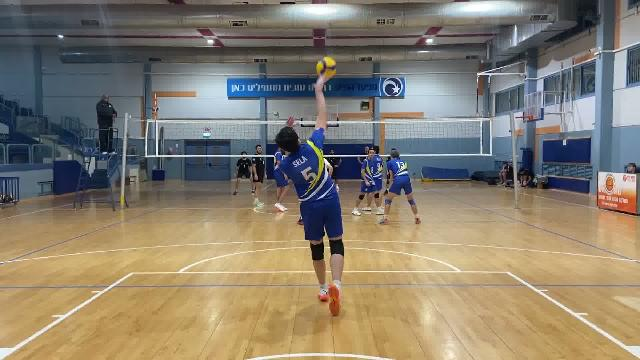ball: (312, 54, 339, 78)
